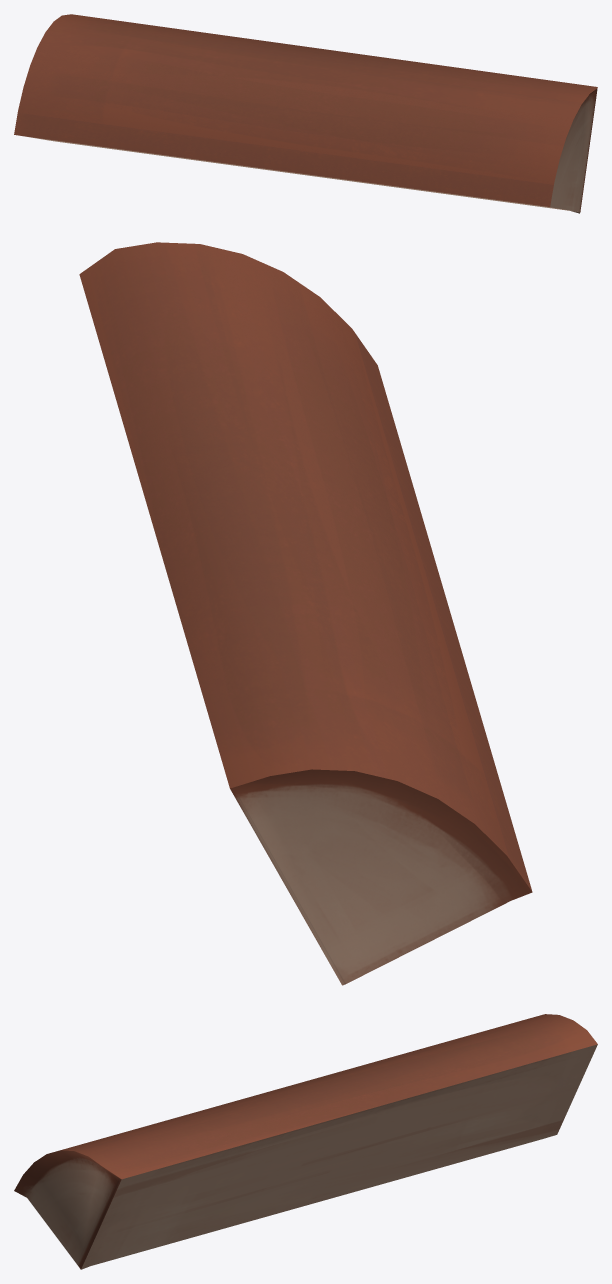
File: Quaterlog.fbx
3 renders of one model, top to bottom at view 1: azimuth 30°, elevation 25°; view 2: azimuth 150°, elevation 25°; view 3: azimuth 270°, elevation 25°, orthographic. The views are drawn at different scales.
Parts seen in each view (by area): view 1: Log - medium.001; view 2: Log - medium.001; view 3: Log - medium.001.
Part boxes in pixels (bbox=[...]): Log - medium.001: bbox=[14, 14, 597, 213]; Log - medium.001: bbox=[79, 242, 532, 985]; Log - medium.001: bbox=[14, 1014, 597, 1269].
Size of the model in its own units: 90.93 by 28.47 by 107.
